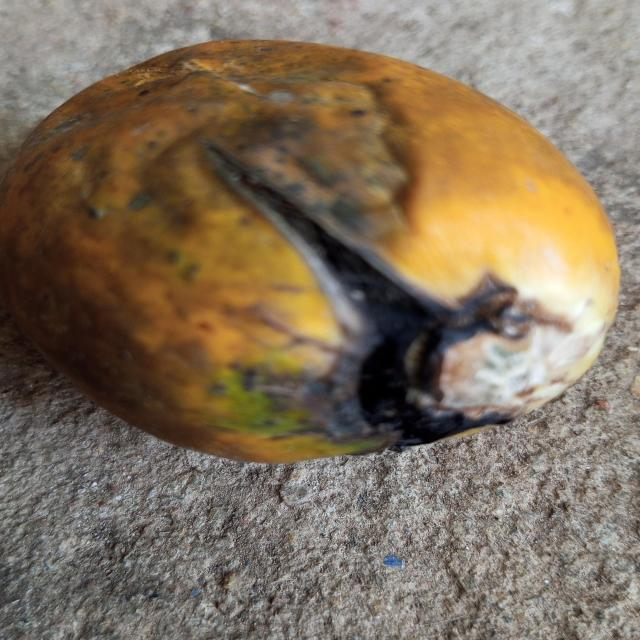damaged: (0, 40, 619, 463)
